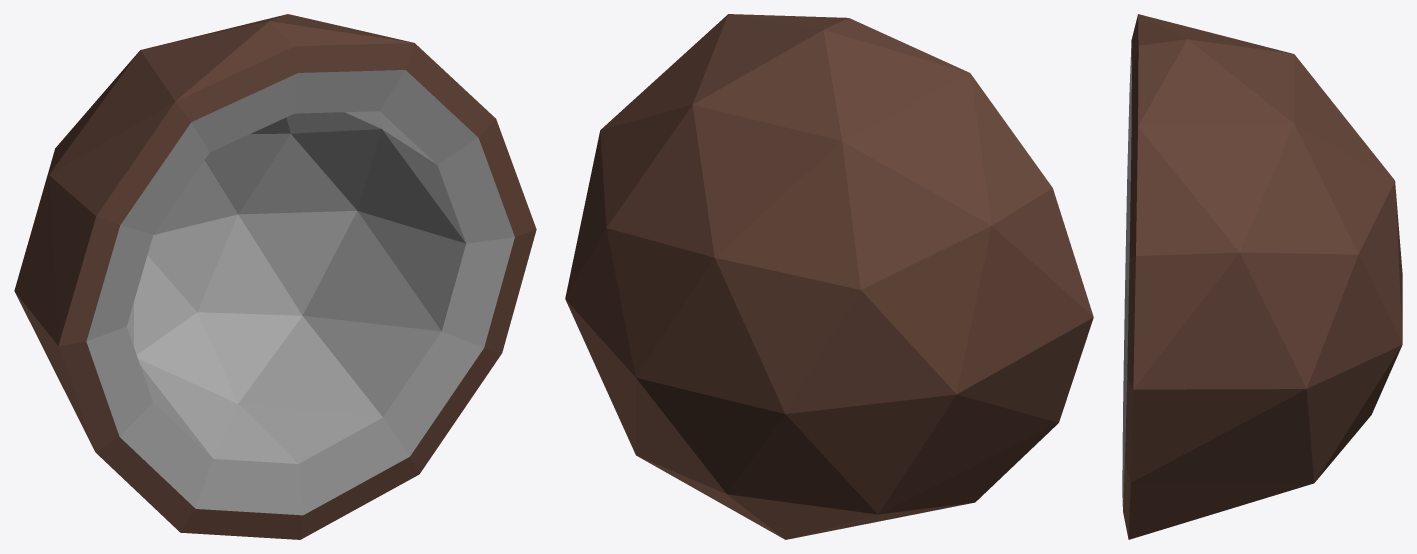
The model's file is Coconut_Half.glb.
The picture shows the model from 3 angles, left to right: view 1: azimuth 30°, elevation 25°; view 2: azimuth 150°, elevation 25°; view 3: azimuth 270°, elevation 25°; orthographic projection. The views are drawn at different scales.
Parts seen in each view (by area): view 1: Coconut_Half_Icosphere.002; view 2: Coconut_Half_Icosphere.002; view 3: Coconut_Half_Icosphere.002.
Part boxes in pixels (<box>): Coconut_Half_Icosphere.002: <box>14,14,536,539</box>; Coconut_Half_Icosphere.002: <box>565,14,1093,539</box>; Coconut_Half_Icosphere.002: <box>1122,14,1402,539</box>.
Size of the model in its own units: 0.7836 by 0.7769 by 0.412.
